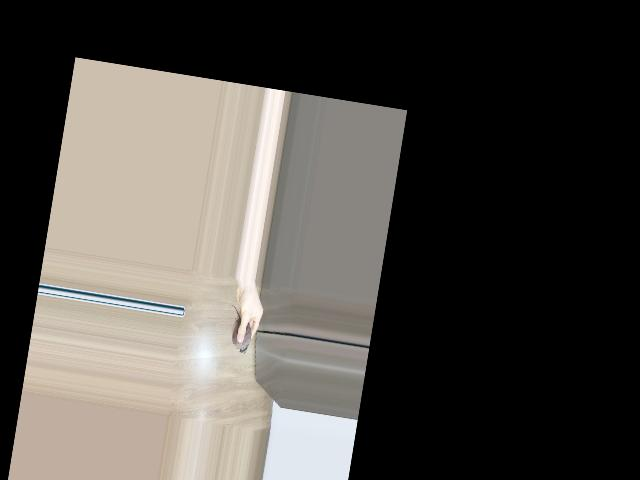beet: (223, 305, 255, 354)
